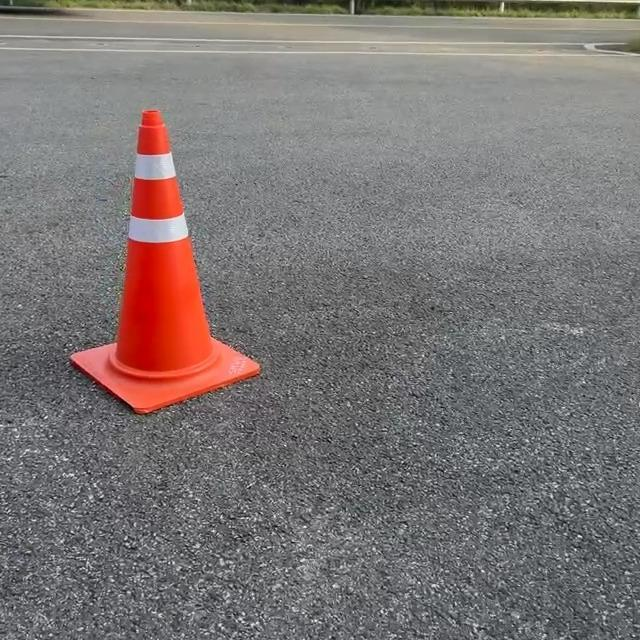fallen_object: (25, 113, 331, 472)
